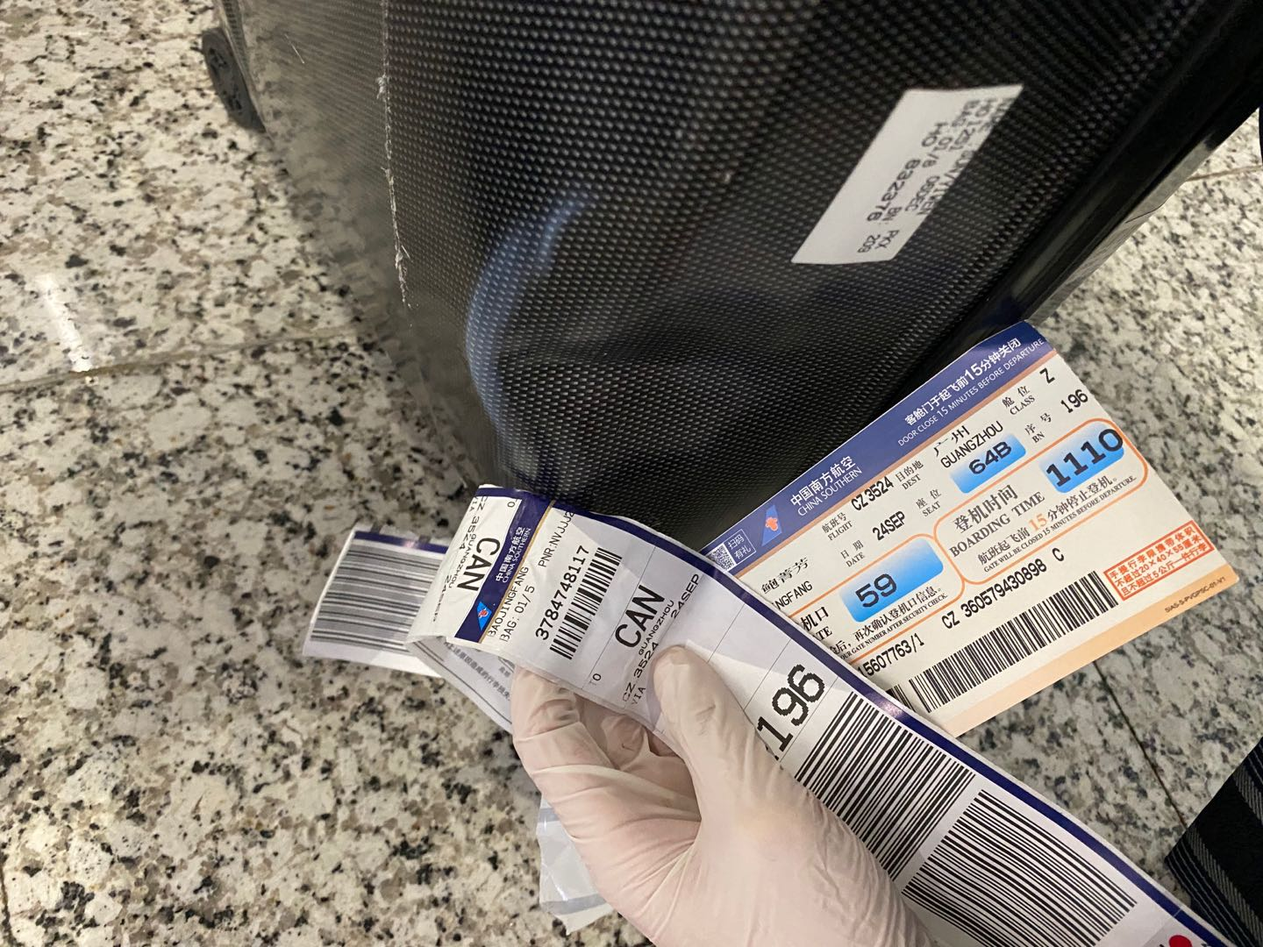rupture: (463, 196, 792, 495)
